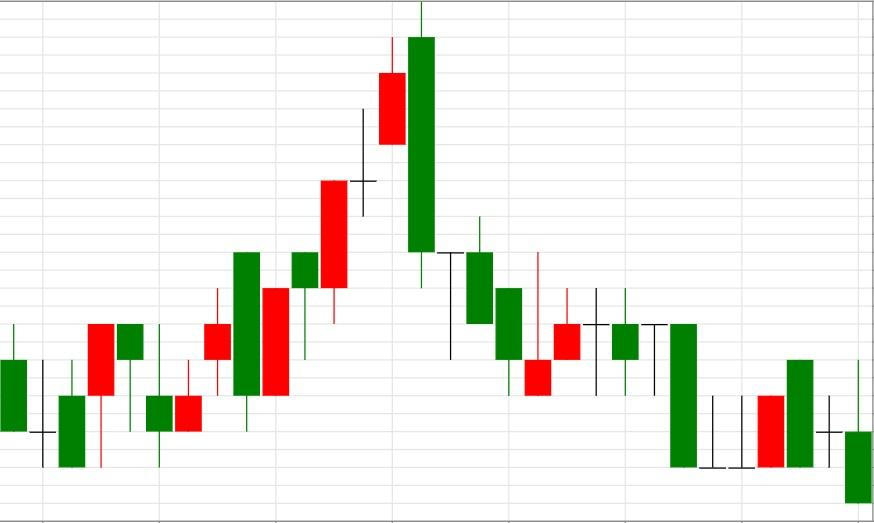bearish_engulfing_fall: (232, 0, 436, 433)
hanging_man_fall: (28, 322, 144, 468)
